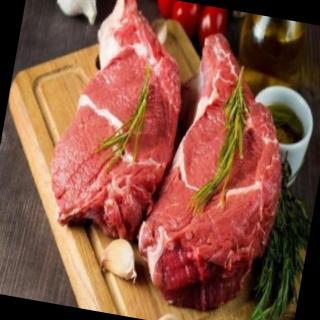Daging Sapi: (129, 28, 305, 320), (46, 1, 199, 244)
